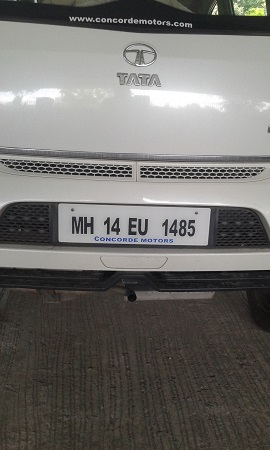licenseplate: (49, 202, 217, 250)
